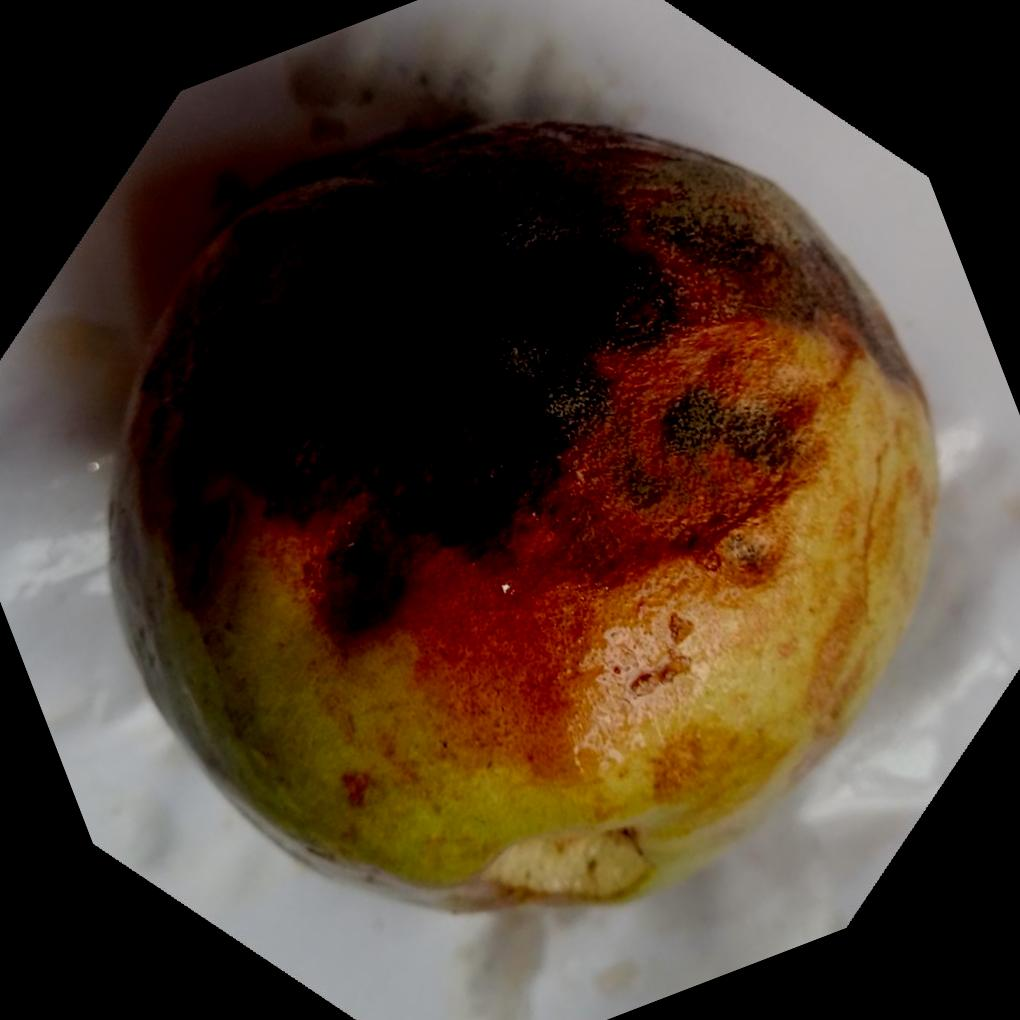FreshOrange: (104, 117, 939, 909)
